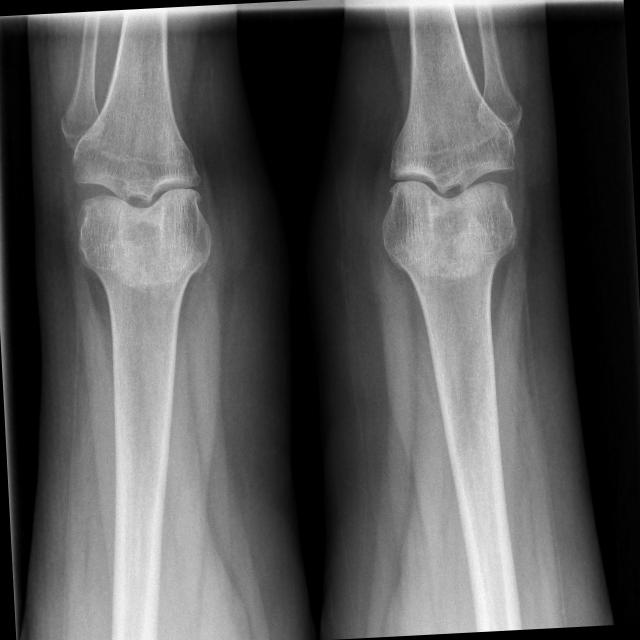Knee: (373, 127, 523, 246), (68, 138, 214, 260)
